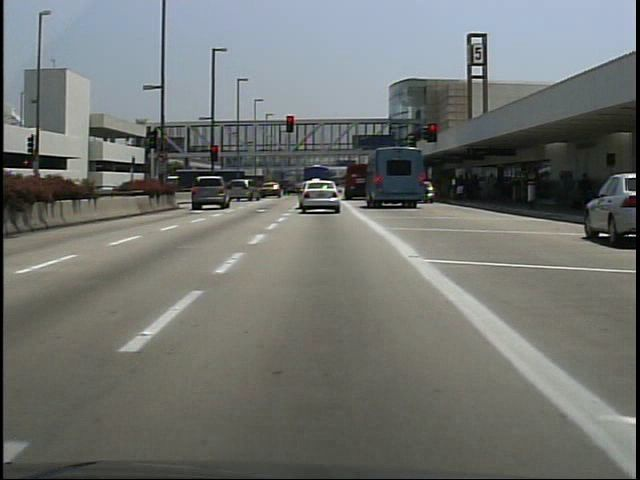person: (576, 169, 595, 223)
